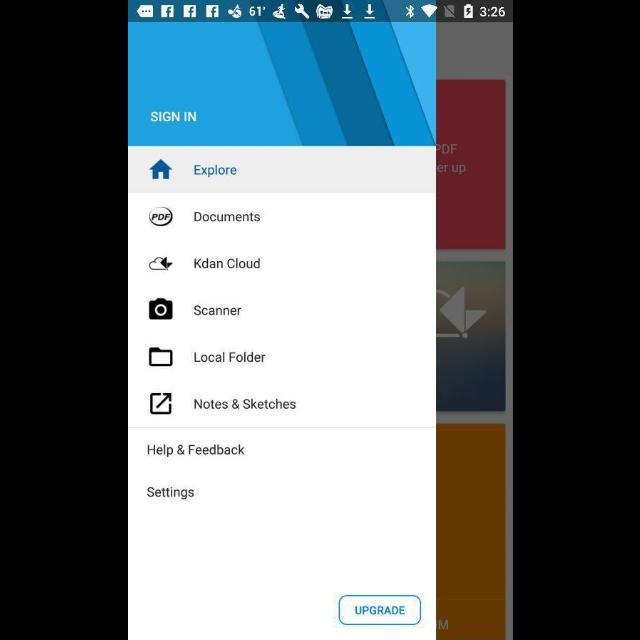icon: (148, 298, 174, 320), (149, 158, 173, 180), (150, 393, 172, 415), (148, 347, 172, 367), (148, 257, 174, 271)
image: (148, 206, 174, 228)
panel: (128, 22, 434, 640)
text: (147, 444, 247, 458), (194, 398, 296, 410), (193, 258, 260, 270), (193, 352, 265, 362), (193, 212, 260, 222), (146, 486, 194, 499), (194, 164, 236, 178), (150, 111, 197, 123), (194, 306, 242, 316)
textbutton: (338, 596, 420, 624)
uppertaskbar: (128, 1, 512, 23)
